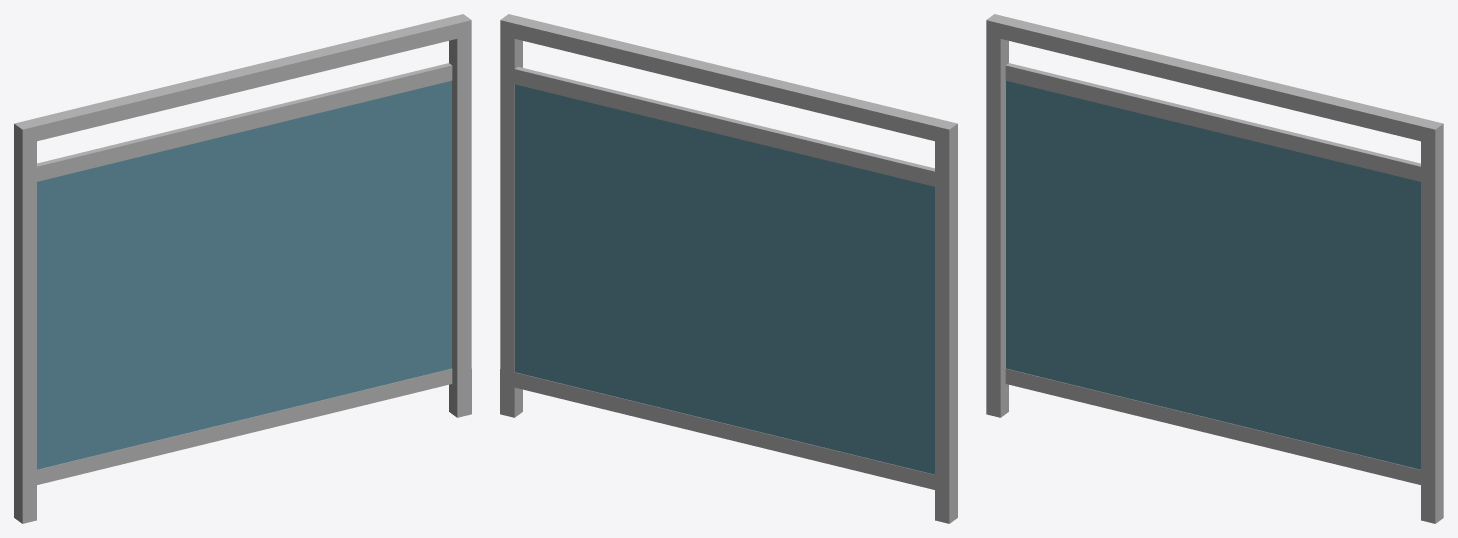
The model's file is railing_glass.obj.
3 renders of one model, left to right at view 1: azimuth 30°, elevation 25°; view 2: azimuth 150°, elevation 25°; view 3: azimuth 330°, elevation 25°, orthographic.
Parts seen in each view (by area): view 1: 2_2, 1_1; view 2: 2_2, 1_1; view 3: 2_2, 1_1.
Part boxes in pixels (bbox=[...]): 2_2: bbox=[37, 80, 451, 469]; 1_1: bbox=[14, 14, 471, 523]; 2_2: bbox=[515, 84, 934, 474]; 1_1: bbox=[500, 14, 957, 523]; 2_2: bbox=[1006, 81, 1420, 469]; 1_1: bbox=[986, 14, 1443, 523].
Size of the model in its own units: 155 by 130 by 5.
